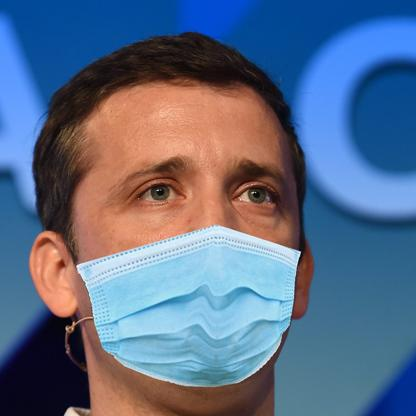mask: (68, 223, 304, 391)
